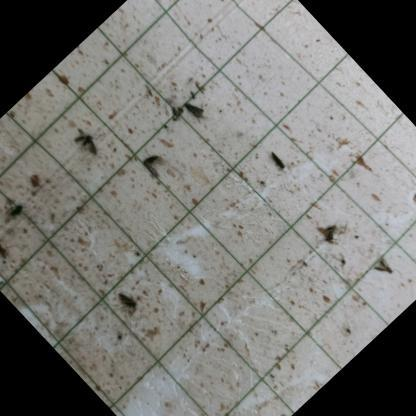prays_oleae: (104, 272, 154, 322), (176, 89, 216, 128), (71, 122, 106, 158), (0, 196, 34, 230), (312, 218, 343, 250), (368, 249, 400, 280), (134, 142, 162, 170), (266, 146, 290, 172), (142, 161, 162, 182)
